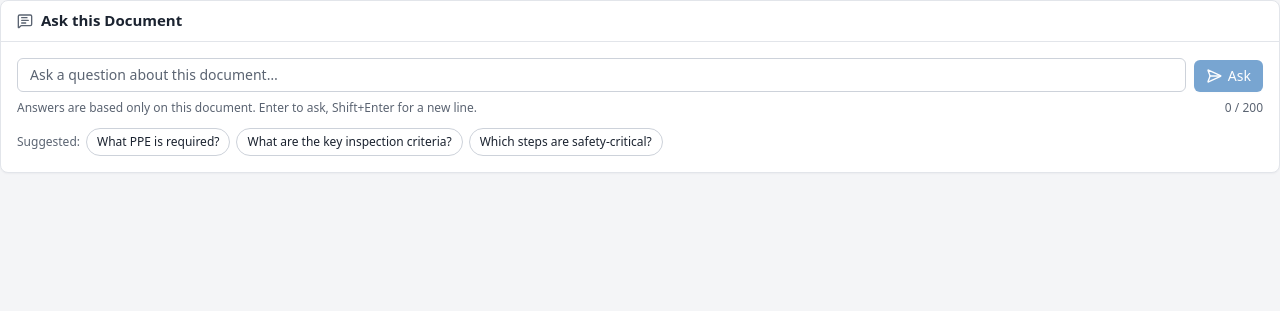
Test case: AskPanel › submits with Enter and renders the answer with citations
Later steps or results of the test are not shown.
Type "What PPE is required?" into the text box labelled "question about this document" at (601, 74), box [17, 58, 1186, 92]
Then press Enter
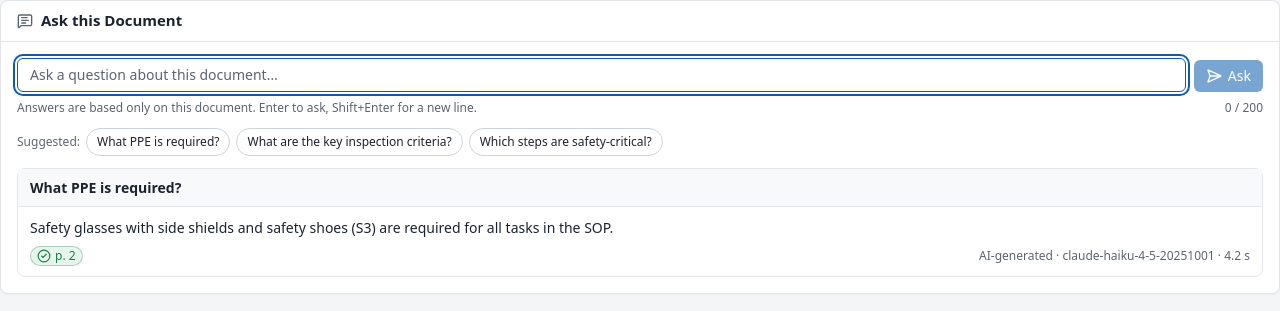
Expected: the text "Safety glasses with side shields and safety shoes (S3) are required for all tasks in the SOP." is shown, [30, 218, 613, 236]
Expected: the text "What PPE is required?" is shown, [18, 168, 1262, 206]
